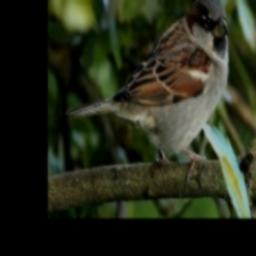Sparrow: (66, 0, 228, 180)
